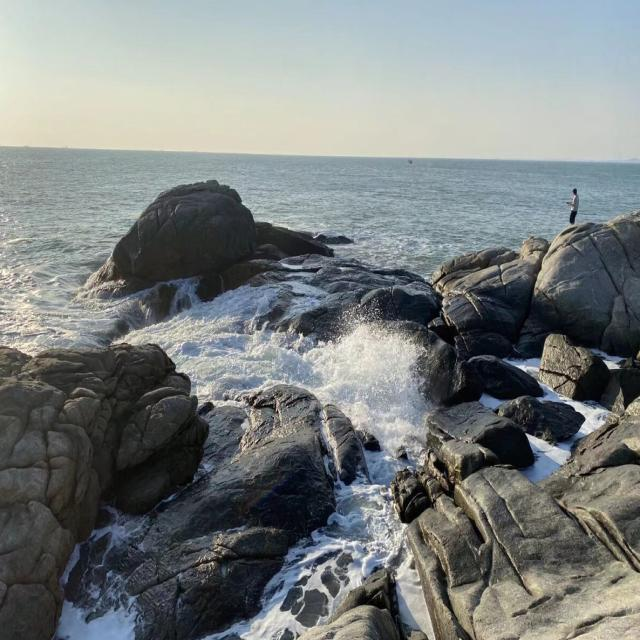reef: (12, 329, 377, 595), (115, 152, 398, 336)
